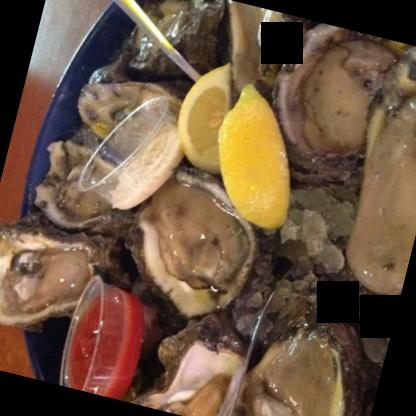oyster: (110, 170, 274, 329), (264, 15, 415, 172), (224, 298, 392, 415), (0, 202, 123, 352), (339, 88, 415, 299)
